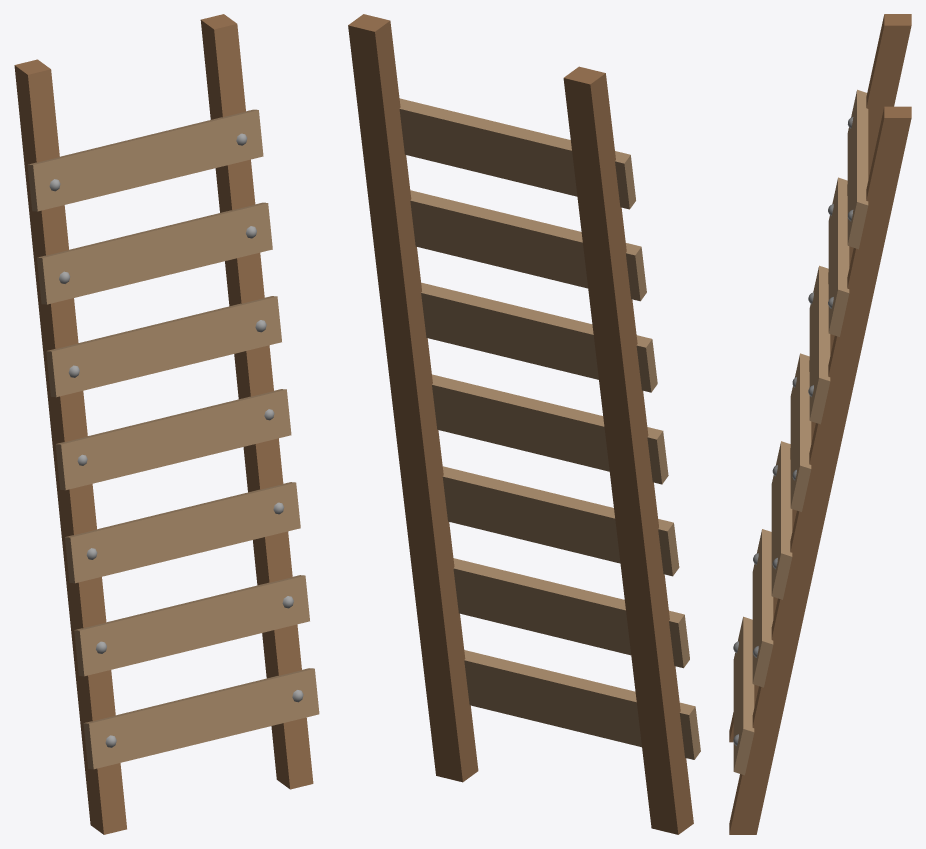
File: Ladder.fbx
3 views of the same model, side by side, from view 1: azimuth 30°, elevation 25°; view 2: azimuth 150°, elevation 25°; view 3: azimuth 270°, elevation 25° (orthographic). The views are drawn at different scales.
Parts seen in each view (by area): view 1: Ladder; view 2: Ladder; view 3: Ladder.
Part boxes in pixels (x1,y1,x2,y2): Ladder: [14, 14, 319, 834]; Ladder: [348, 14, 700, 834]; Ladder: [729, 14, 911, 834].
Bounding box in the file's own units: 142 × 424 × 97.66.
